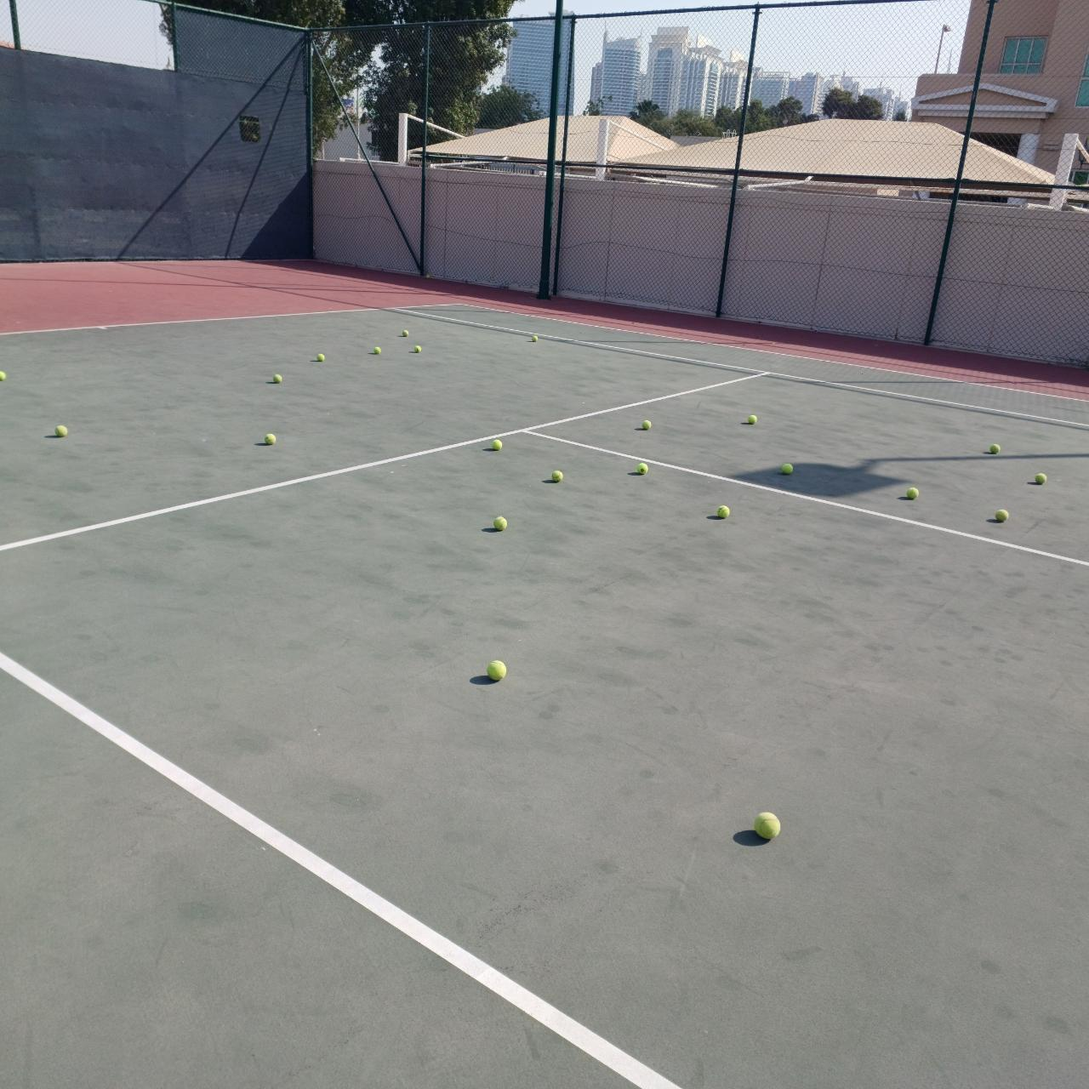tennis-ball: (752, 809, 781, 841), (485, 657, 507, 681), (493, 515, 507, 531), (53, 424, 69, 437), (995, 510, 1010, 522), (717, 505, 729, 518), (907, 487, 919, 500), (264, 433, 276, 445), (551, 470, 563, 482), (988, 444, 1001, 455), (492, 439, 503, 451), (637, 463, 649, 474), (1035, 473, 1047, 484), (782, 463, 793, 474), (272, 374, 282, 384), (0, 368, 7, 382), (316, 353, 326, 362), (642, 420, 651, 430), (373, 346, 382, 355), (748, 415, 757, 424), (414, 345, 422, 353), (531, 335, 538, 342), (402, 330, 409, 336), (426, 274, 430, 278)
